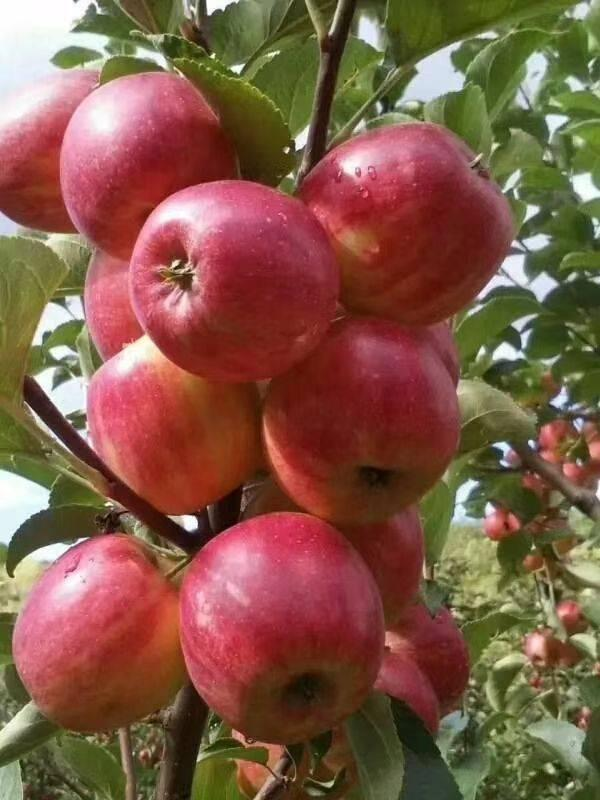apple: (170, 498, 389, 735), (294, 126, 517, 335), (137, 181, 353, 380), (271, 301, 471, 510), (15, 539, 189, 742), (51, 71, 236, 258), (81, 332, 259, 514), (1, 68, 104, 234), (524, 629, 561, 671), (481, 503, 520, 542), (553, 598, 585, 635)
